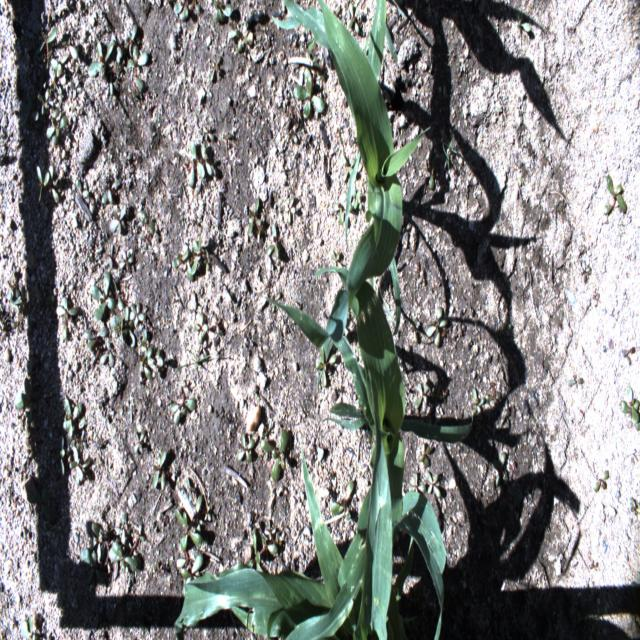crop: (262, 266, 473, 638), (271, 0, 431, 343), (173, 446, 418, 638), (345, 0, 397, 248), (352, 368, 393, 639)
weed: (244, 528, 282, 584), (175, 495, 210, 553), (109, 523, 146, 571), (13, 362, 41, 424), (294, 71, 326, 120), (260, 428, 288, 483), (90, 270, 117, 320), (127, 45, 149, 100), (27, 485, 58, 523), (174, 554, 203, 594), (187, 143, 213, 186), (36, 163, 63, 204), (140, 340, 164, 385), (424, 305, 449, 347), (329, 478, 352, 522), (34, 29, 59, 69), (601, 174, 627, 212), (109, 306, 135, 344), (190, 233, 214, 274), (87, 42, 114, 78), (619, 384, 640, 430), (80, 548, 108, 582), (316, 345, 338, 386), (62, 398, 84, 438), (83, 328, 108, 358), (92, 523, 109, 567), (152, 446, 168, 492), (170, 402, 197, 429), (34, 279, 54, 314), (227, 20, 248, 52), (492, 448, 508, 489), (172, 0, 200, 23), (109, 276, 126, 313), (248, 197, 263, 238), (333, 192, 351, 226), (443, 133, 461, 166), (408, 472, 426, 504), (53, 295, 78, 318), (236, 433, 254, 464), (70, 443, 84, 482), (100, 179, 120, 206), (116, 513, 131, 548), (194, 311, 210, 343), (46, 115, 68, 138), (100, 338, 116, 368), (23, 96, 39, 126), (266, 224, 280, 258), (55, 432, 65, 479), (128, 303, 146, 329), (107, 207, 127, 230), (62, 33, 78, 61), (169, 249, 188, 272), (348, 3, 361, 36), (48, 56, 67, 78), (414, 380, 430, 406), (48, 68, 64, 94), (213, 0, 232, 21), (417, 440, 431, 468), (138, 208, 154, 232), (3, 270, 15, 302), (16, 284, 28, 316), (284, 196, 296, 228), (84, 178, 94, 216), (69, 76, 84, 101), (109, 33, 122, 61), (119, 250, 135, 272), (426, 471, 440, 496), (313, 55, 325, 84), (182, 254, 194, 283), (127, 22, 136, 60), (19, 620, 36, 640), (472, 386, 484, 414), (266, 293, 282, 314), (37, 87, 49, 115), (428, 154, 437, 191), (134, 426, 145, 456), (486, 384, 501, 406), (76, 180, 90, 203), (210, 54, 221, 83), (211, 314, 223, 340), (579, 259, 591, 284), (344, 157, 356, 181), (568, 372, 586, 388), (594, 470, 608, 490), (516, 12, 530, 32), (25, 427, 36, 452), (409, 320, 420, 344), (332, 251, 343, 273), (196, 340, 208, 360), (202, 125, 216, 142), (185, 479, 195, 502), (22, 448, 33, 467), (621, 346, 637, 359), (440, 382, 449, 404), (264, 520, 274, 539), (630, 496, 639, 517), (140, 232, 151, 248), (352, 189, 360, 210), (306, 36, 316, 50), (63, 311, 67, 338), (590, 562, 600, 571), (518, 174, 524, 186)
